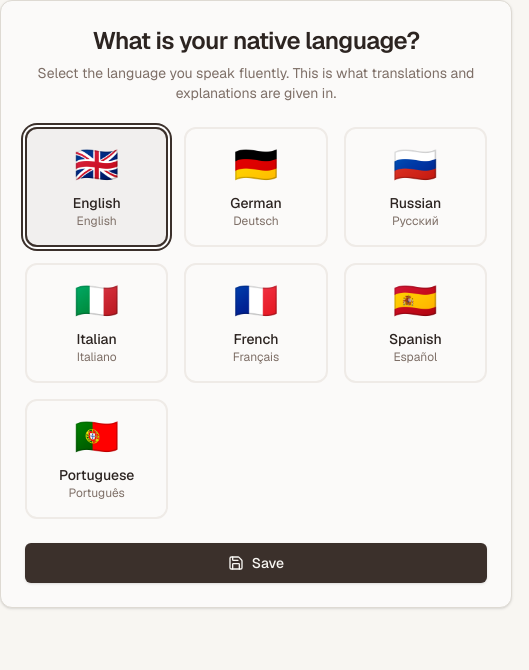
SourceLanguageSelector › surfaces a failure to save
What coordinates should you click on to do the following:
click the button "Save"
I would click on:
 (256, 563)
Its box is [25,543,487,583].
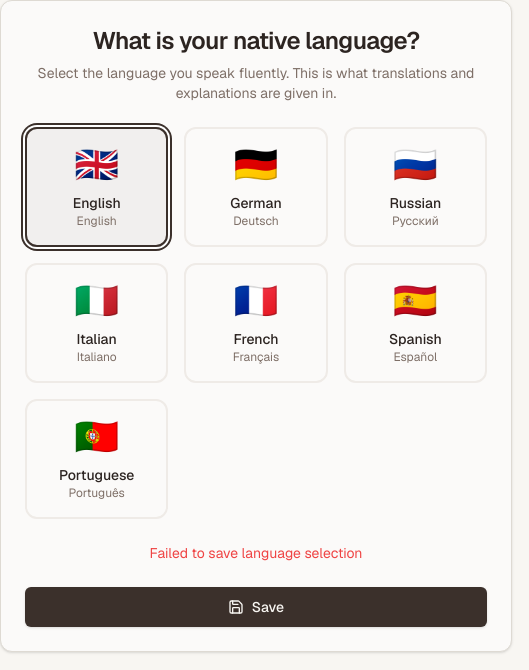
Result: the text "Failed to save language selection" is shown at [150,544,362,562]
